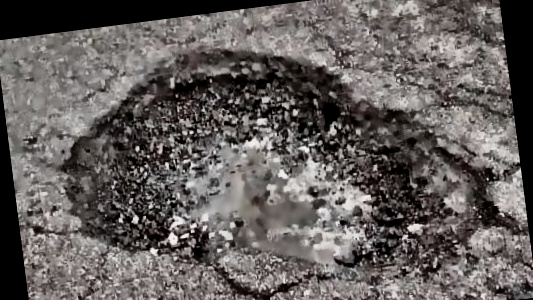pothole: (41, 7, 514, 300)
